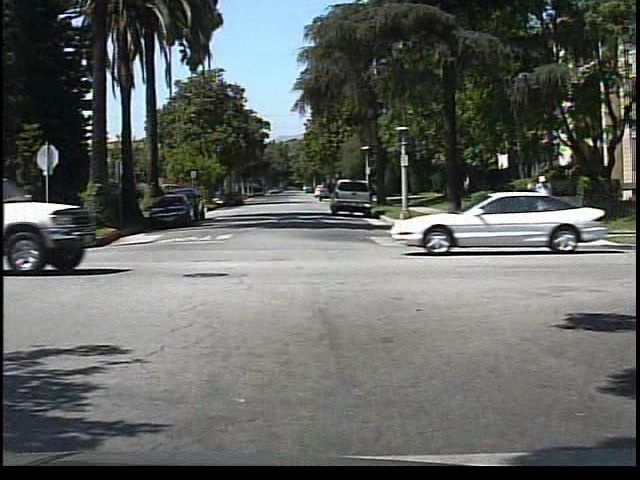person: (528, 172, 557, 232)
